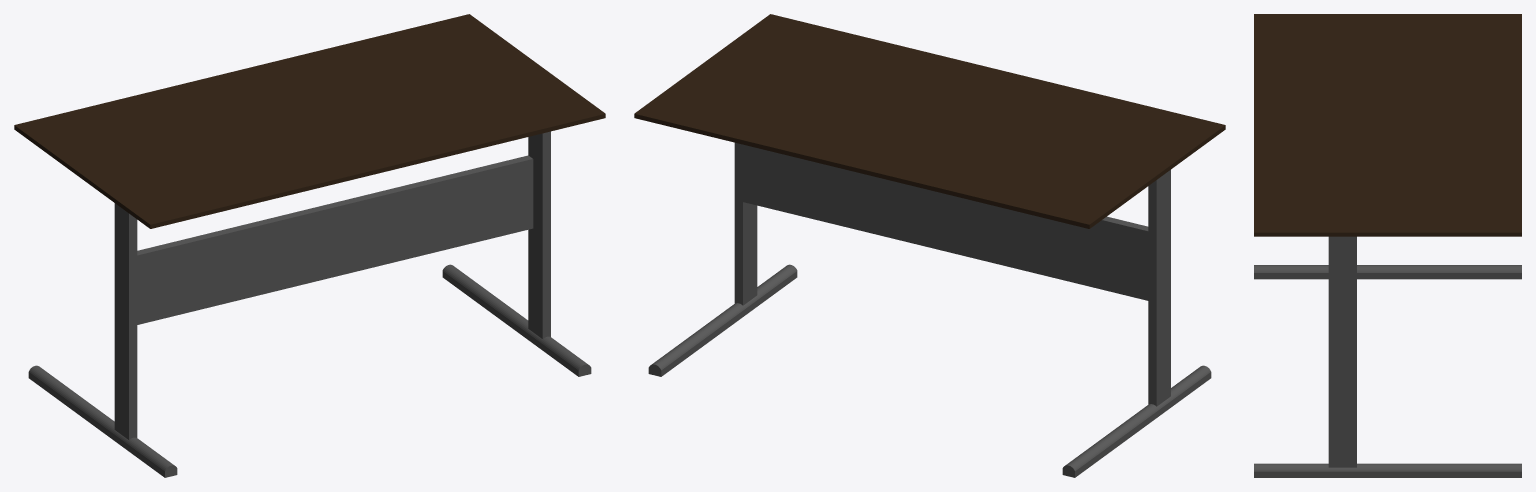
3 views of the same model, side by side, from view 1: azimuth 30°, elevation 25°; view 2: azimuth 150°, elevation 25°; view 3: azimuth 270°, elevation 25° (orthographic).
Visible parts, largest first — view 1: Mesh1 Group1 Group_6_1 Model, Mesh7 Group_6_1 Model, Mesh3 Group4 Group2 Group_6_1 Model, Mesh2 Group3 Group2 Group_6_1 Model, Mesh4 Group2 Group_6_1 Model, Mesh5 Group2 Group_6_1 Model; view 2: Mesh1 Group1 Group_6_1 Model, Mesh7 Group_6_1 Model, Mesh3 Group4 Group2 Group_6_1 Model, Mesh2 Group3 Group2 Group_6_1 Model, Mesh4 Group2 Group_6_1 Model, Mesh5 Group2 Group_6_1 Model; view 3: Mesh1 Group1 Group_6_1 Model, Mesh2 Group3 Group2 Group_6_1 Model, Mesh4 Group2 Group_6_1 Model, Mesh5 Group2 Group_6_1 Model.
Part boxes in pixels (x1=…): Mesh1 Group1 Group_6_1 Model: x1=14, y1=14, x2=605, y2=228; Mesh7 Group_6_1 Model: x1=137, y1=155, x2=533, y2=324; Mesh3 Group4 Group2 Group_6_1 Model: x1=114, y1=203, x2=137, y2=439; Mesh2 Group3 Group2 Group_6_1 Model: x1=528, y1=131, x2=550, y2=338; Mesh4 Group2 Group_6_1 Model: x1=442, y1=264, x2=591, y2=376; Mesh5 Group2 Group_6_1 Model: x1=28, y1=365, x2=177, y2=477; Mesh1 Group1 Group_6_1 Model: x1=634, y1=14, x2=1225, y2=228; Mesh7 Group_6_1 Model: x1=743, y1=144, x2=1148, y2=300; Mesh3 Group4 Group2 Group_6_1 Model: x1=1148, y1=170, x2=1170, y2=406; Mesh2 Group3 Group2 Group_6_1 Model: x1=734, y1=142, x2=757, y2=305; Mesh4 Group2 Group_6_1 Model: x1=648, y1=264, x2=797, y2=376; Mesh5 Group2 Group_6_1 Model: x1=1062, y1=365, x2=1211, y2=477; Mesh1 Group1 Group_6_1 Model: x1=1254, y1=14, x2=1521, y2=236; Mesh2 Group3 Group2 Group_6_1 Model: x1=1328, y1=236, x2=1356, y2=467; Mesh4 Group2 Group_6_1 Model: x1=1254, y1=463, x2=1521, y2=477; Mesh5 Group2 Group_6_1 Model: x1=1254, y1=265, x2=1521, y2=279.
Size of the model in its own units: 0.8009 by 0.4315 by 0.4151.
